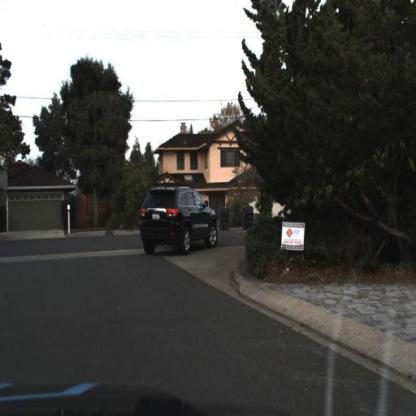car: (137, 181, 227, 261)
